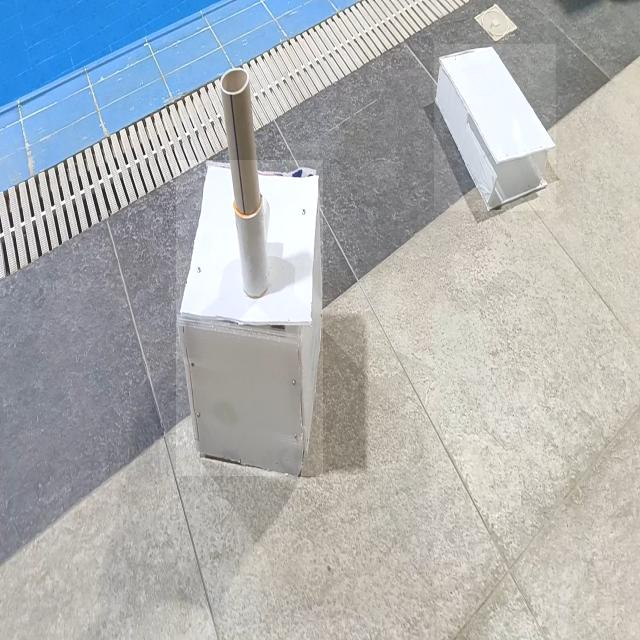Cube: (176, 160, 323, 476)
Cuboid: (434, 44, 556, 211)
